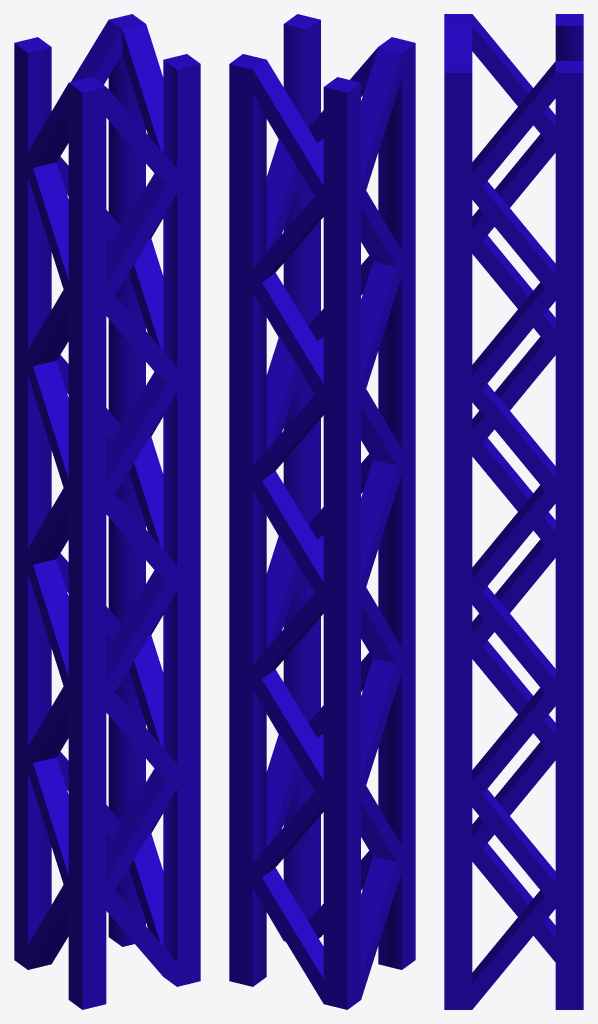
3 views of the same model, side by side, from view 1: azimuth 30°, elevation 25°; view 2: azimuth 150°, elevation 25°; view 3: azimuth 270°, elevation 25° (orthographic). The views are drawn at different scales.
Parts seen in each view (by area): view 1: Box021; view 2: Box021; view 3: Box021.
Part boxes in pixels (bbox=[...]): Box021: bbox=[14, 14, 200, 1009]; Box021: bbox=[229, 14, 415, 1009]; Box021: bbox=[444, 14, 583, 1009].
Bounding box in the file's own units: 9.98 × 74.01 × 9.98.
